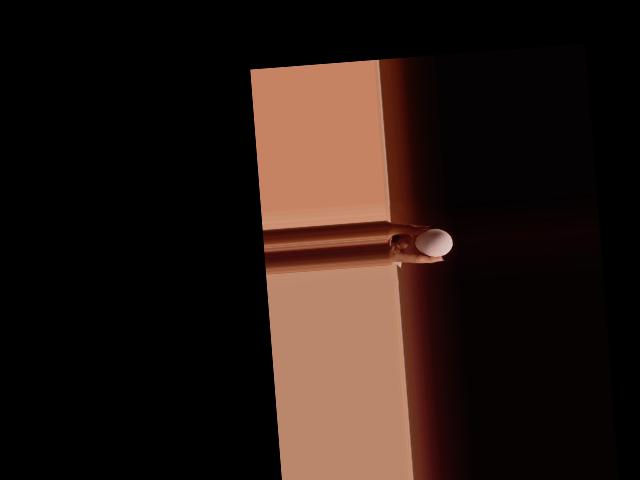egg: (413, 226, 453, 258)
